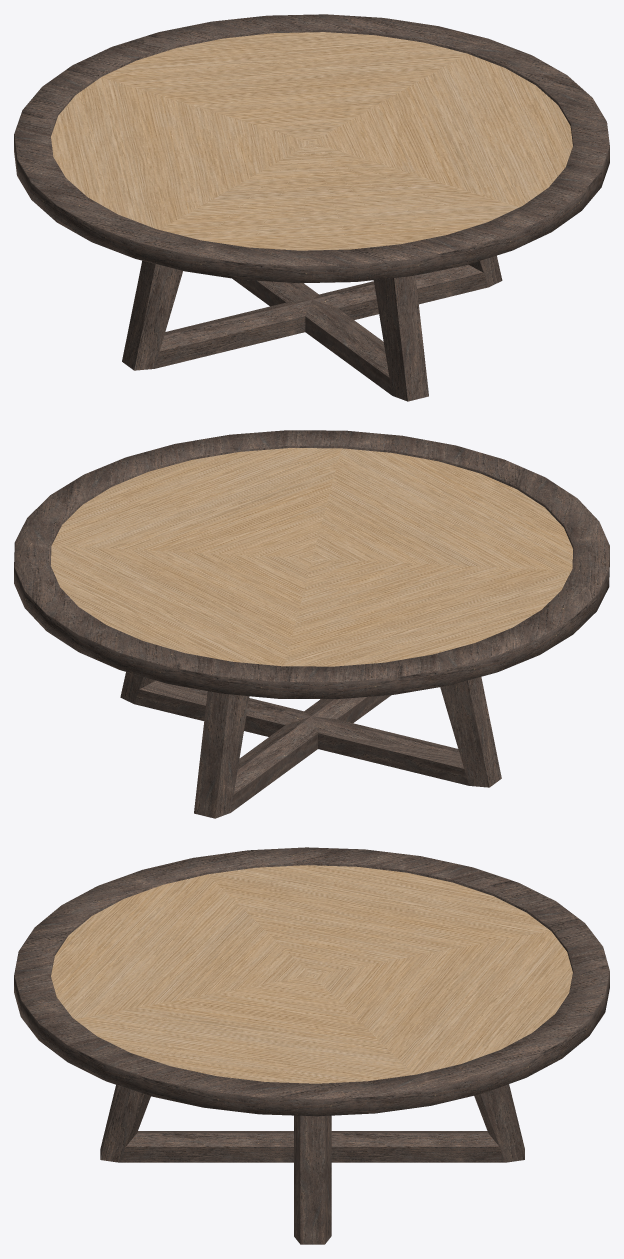
The model's file is TableTOPinside.fbx.
3 renders of one model, top to bottom at view 1: azimuth 30°, elevation 25°; view 2: azimuth 150°, elevation 25°; view 3: azimuth 270°, elevation 25°, orthographic.
Parts seen in each view (by area): view 1: TableTOPinside; view 2: TableTOPinside; view 3: TableTOPinside.
Boxes of the visible parts, x1,y1,x2,y2 form: TableTOPinside: [14, 14, 609, 401]; TableTOPinside: [14, 430, 609, 818]; TableTOPinside: [14, 847, 609, 1244].
Bounding box in the file's own units: 218 × 73.19 × 218.
2 materials, 2 textured.
